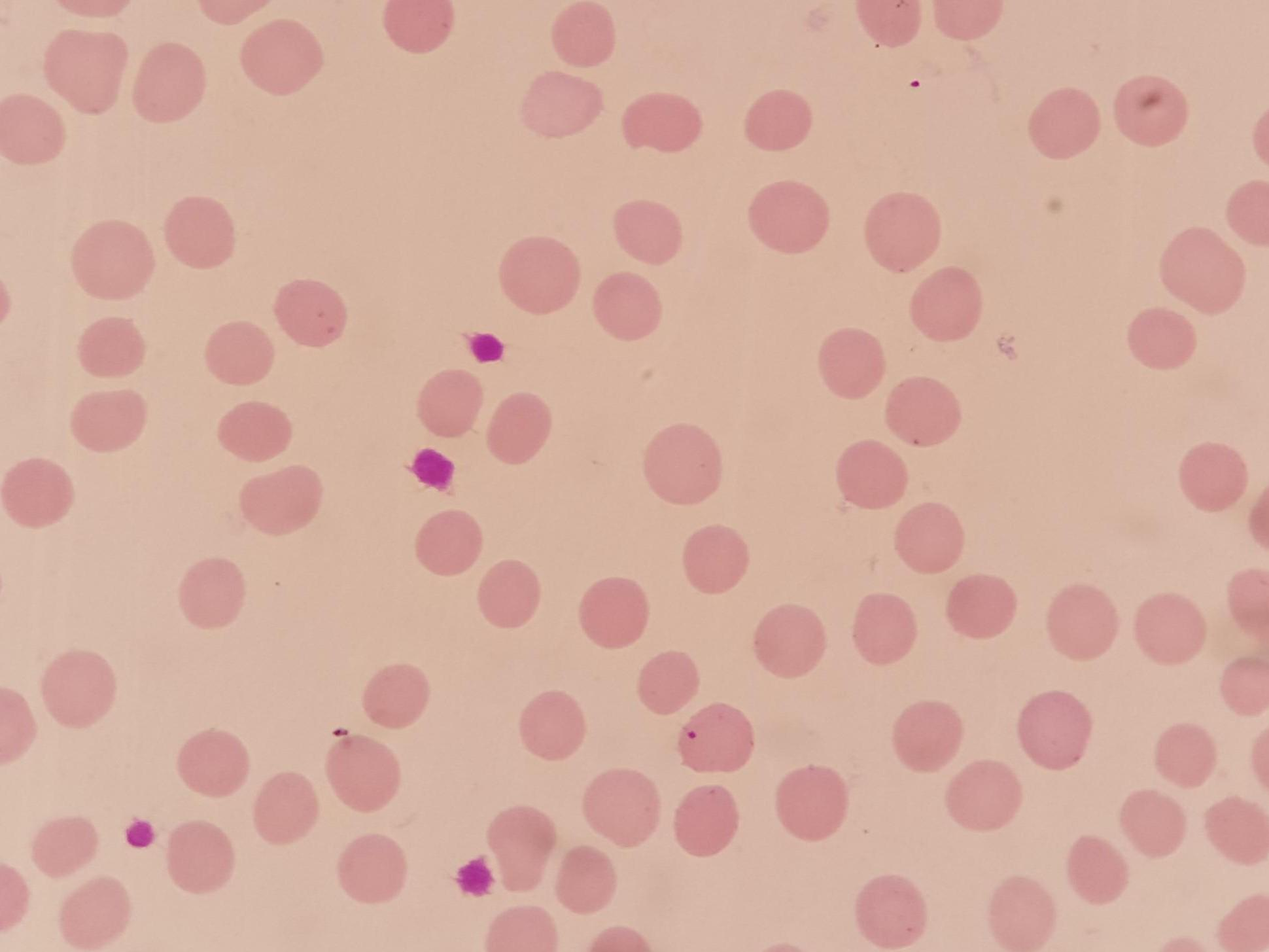Uninfected: (1158, 225, 1245, 314), (44, 29, 130, 115), (71, 218, 156, 300), (241, 18, 326, 96), (643, 424, 723, 504), (498, 236, 580, 314), (133, 41, 209, 124), (583, 769, 663, 847), (40, 648, 118, 728), (864, 192, 942, 270), (748, 180, 829, 255), (322, 735, 398, 814), (239, 465, 322, 537), (486, 805, 557, 889), (909, 266, 985, 342), (519, 70, 602, 139), (775, 766, 849, 842), (1018, 691, 1092, 767), (1, 456, 76, 530), (885, 376, 961, 449), (1047, 584, 1120, 660), (945, 760, 1022, 832), (176, 727, 251, 800), (752, 604, 826, 677), (854, 875, 927, 949), (164, 195, 236, 270), (58, 876, 131, 949), (892, 699, 964, 773), (1028, 87, 1102, 159), (1115, 75, 1189, 146), (1134, 592, 1206, 664), (274, 278, 349, 347), (70, 388, 148, 454), (166, 821, 236, 894), (678, 703, 753, 771), (578, 576, 649, 647), (895, 501, 966, 572), (337, 834, 408, 905), (621, 91, 701, 154), (836, 440, 907, 510), (673, 784, 742, 856), (988, 876, 1055, 950), (518, 690, 587, 761), (177, 557, 245, 629), (253, 772, 320, 845), (217, 398, 292, 463), (592, 272, 661, 342), (613, 198, 684, 266), (851, 593, 918, 665), (818, 328, 886, 398), (1178, 442, 1248, 510), (945, 573, 1015, 641), (487, 393, 553, 465), (682, 524, 750, 593), (414, 509, 483, 577), (416, 368, 483, 438), (1202, 794, 1269, 864), (362, 663, 430, 731), (1120, 788, 1186, 858), (0, 93, 64, 165), (476, 558, 541, 628), (205, 321, 275, 386), (77, 315, 148, 379), (1127, 307, 1197, 371), (745, 89, 815, 152), (30, 815, 97, 879), (1154, 722, 1217, 790), (555, 845, 617, 914), (1068, 835, 1130, 904), (636, 650, 700, 716), (551, 3, 616, 65), (383, 1, 456, 53), (485, 906, 555, 952), (1219, 654, 1269, 716), (856, 2, 922, 48), (1218, 892, 1269, 951), (1227, 569, 1269, 639), (934, 2, 1002, 41)
